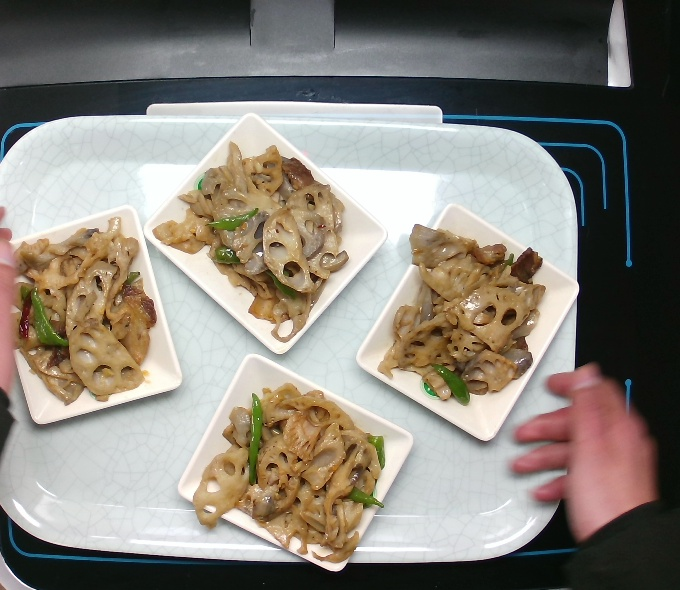wcq-OuPianChaoRou: (196, 373, 388, 566), (160, 144, 355, 333), (376, 213, 548, 419), (15, 227, 164, 403)
